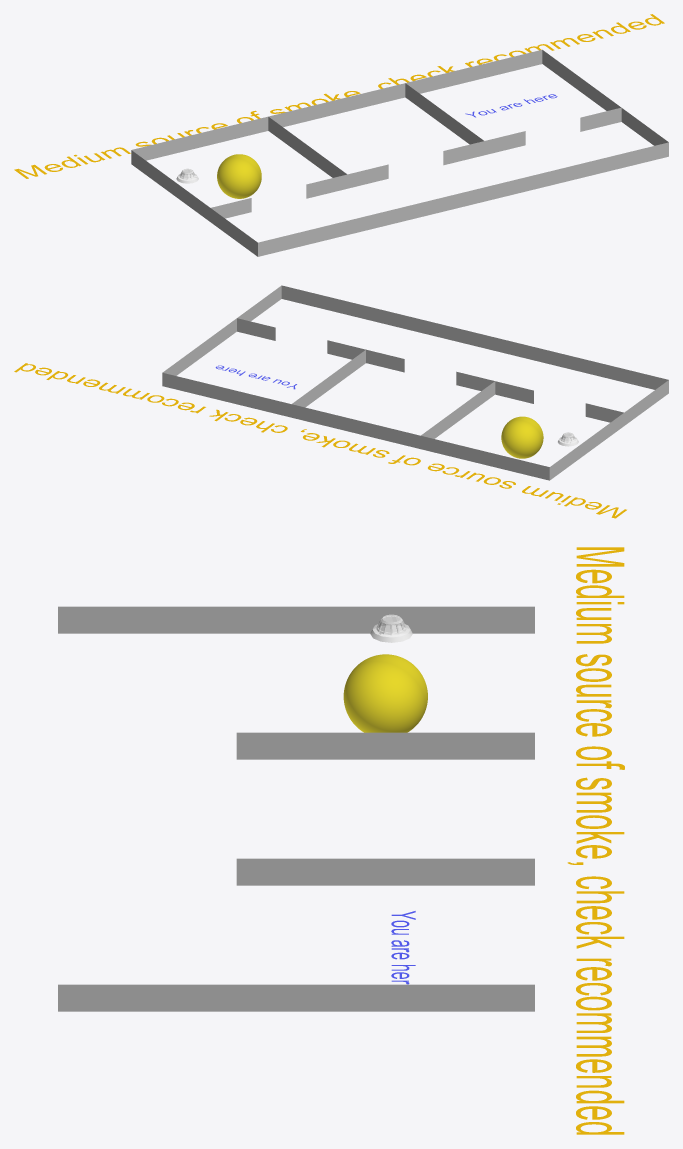
The model's file is alerting.glb.
The picture shows the model from 3 angles, top to bottom: view 1: azimuth 30°, elevation 25°; view 2: azimuth 150°, elevation 25°; view 3: azimuth 270°, elevation 25°; orthographic projection. The views are drawn at different scales.
Visible parts, largest first — view 1: Object_12.001, Object_11.001, Object_18.001, Object_14.001, Object_17.001, Object_19.001, Object_16.001, Object_15.001; view 2: Object_12.001, Object_11.001, Object_18.001, Object_14.001, Object_19.001, Object_17.001, Object_16.001, Object_15.001; view 3: Object_12.001, Object_17.001, Object_19.001, Object_11.001, smoke_detector.1.
Part boxes in pixels (x1=…): Object_12.001: x1=131, y1=49, x2=668, y2=256; Object_11.001: x1=217, y1=154, x2=261, y2=198; Object_18.001: x1=306, y1=164, x2=388, y2=198; Object_14.001: x1=443, y1=131, x2=525, y2=165; Object_17.001: x1=405, y1=83, x2=483, y2=144; Object_19.001: x1=268, y1=117, x2=346, y2=177; Object_16.001: x1=580, y1=107, x2=621, y2=131; Object_15.001: x1=211, y1=198, x2=251, y2=218; Object_12.001: x1=162, y1=285, x2=668, y2=480; Object_11.001: x1=501, y1=416, x2=543, y2=458; Object_18.001: x1=456, y1=371, x2=533, y2=403; Object_14.001: x1=327, y1=340, x2=404, y2=372; Object_19.001: x1=421, y1=381, x2=495, y2=438; Object_17.001: x1=292, y1=350, x2=365, y2=407; Object_16.001: x1=237, y1=318, x2=275, y2=340; Object_15.001: x1=585, y1=403, x2=623, y2=422; Object_12.001: x1=58, y1=606, x2=534, y2=1011; Object_17.001: x1=236, y1=858, x2=534, y2=885; Object_19.001: x1=236, y1=732, x2=534, y2=759; Object_11.001: x1=343, y1=654, x2=427, y2=732; smoke_detector.1: x1=370, y1=614, x2=412, y2=642.
Bounding box in the file's own units: 4.66 × 0.2828 × 1.9.
